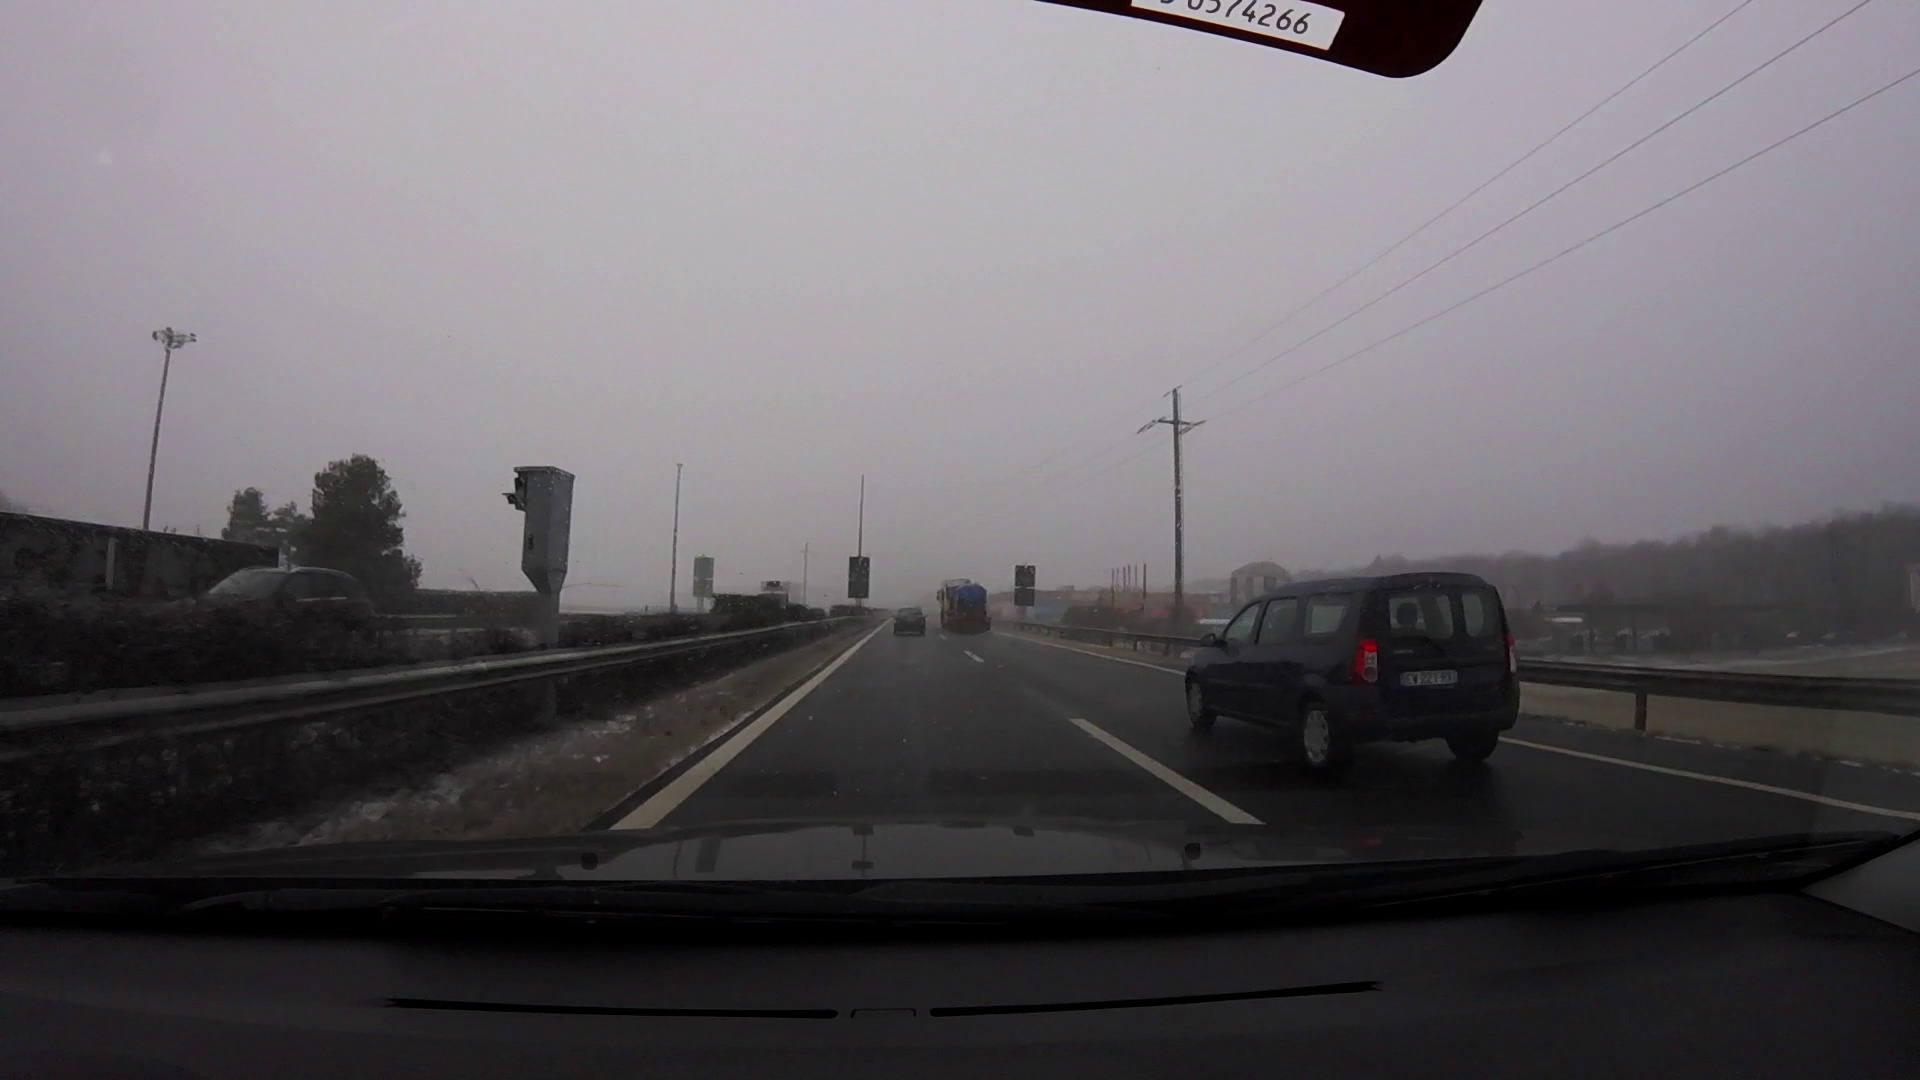radar: (501, 463, 578, 615)
